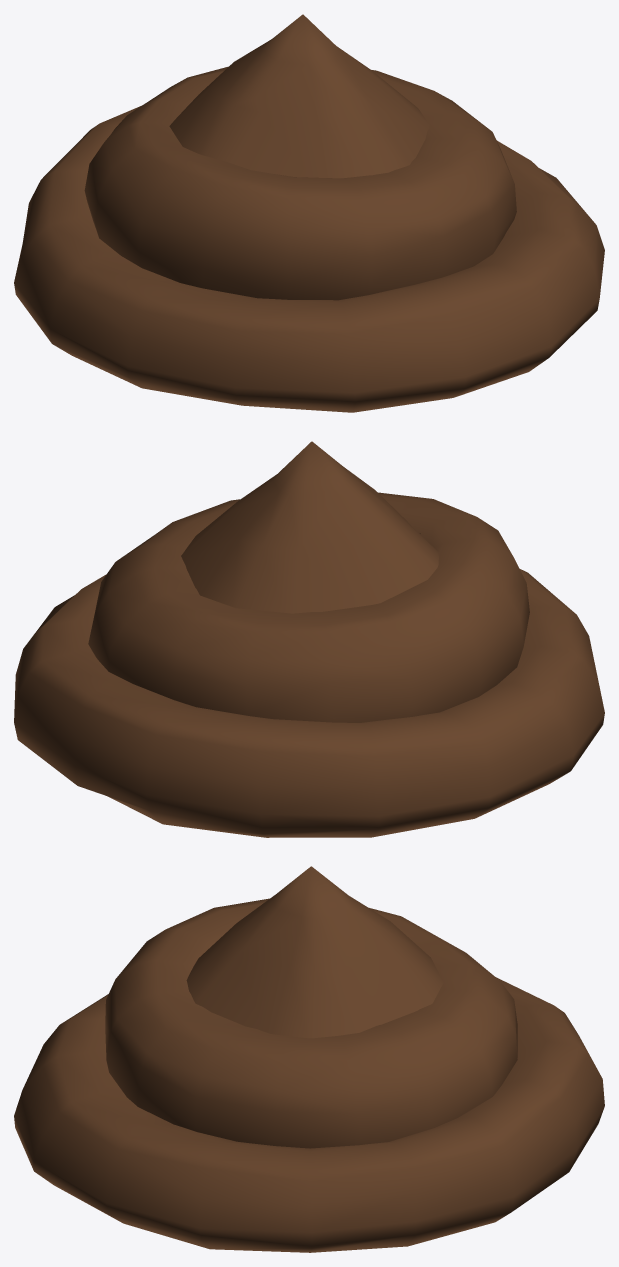
The model's file is SM_Poop.fbx.
The picture shows the model from 3 angles, top to bottom: view 1: azimuth 30°, elevation 25°; view 2: azimuth 150°, elevation 25°; view 3: azimuth 270°, elevation 25°; orthographic projection. The views are drawn at different scales.
Visible parts, largest first — view 1: 04_Poop; view 2: 04_Poop; view 3: 04_Poop.
Part boxes in pixels (x1,y1,x2,y2): 04_Poop: (14,14,604,412); 04_Poop: (14,441,604,837); 04_Poop: (14,866,604,1252).
Size of the model in its own units: 39.47 by 20.73 by 40.19.
